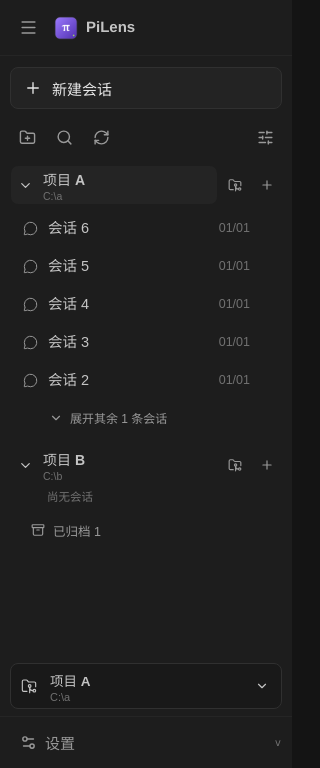
Test case: Sidebar project history › keeps search and archived histories accessible and omits more for short or empty lists
Expected: the text "尚无会话" is shown, [47,492,93,504]
Click the button named "搜索会话" at (64, 137), box [47,120,81,154]
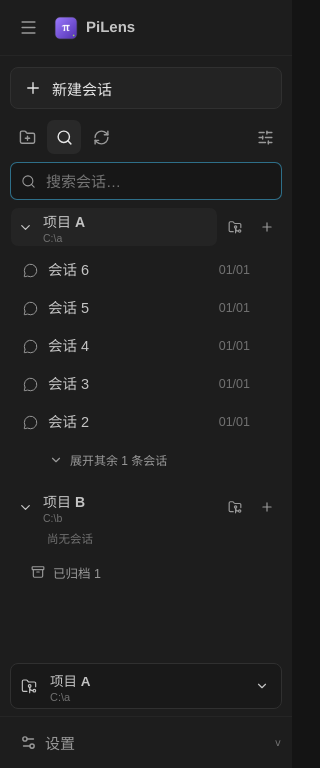
Type "会话 1" into the field with placeholder "搜索会话…" at (158, 181), box [44,172,271,190]
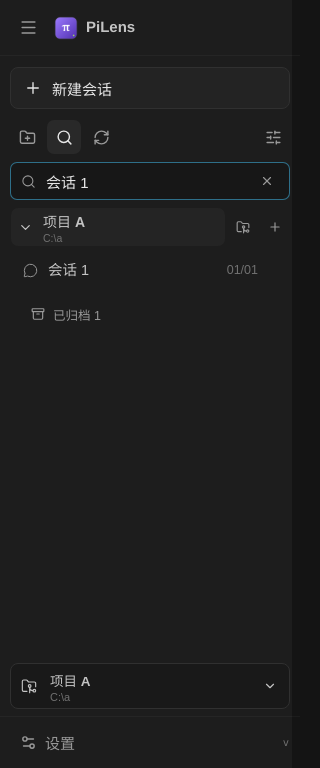
Now the text "会话 1" is shown, box [48,262,89,278]
Now the button "展开其余" is gone
Click the button named "清空搜索" at (267, 181), box [255,169,279,193]
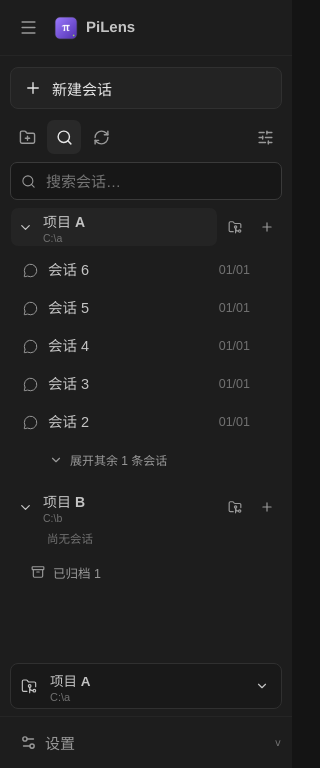
Click the button "已归档 1" at (66, 572), box [21,555,111,589]
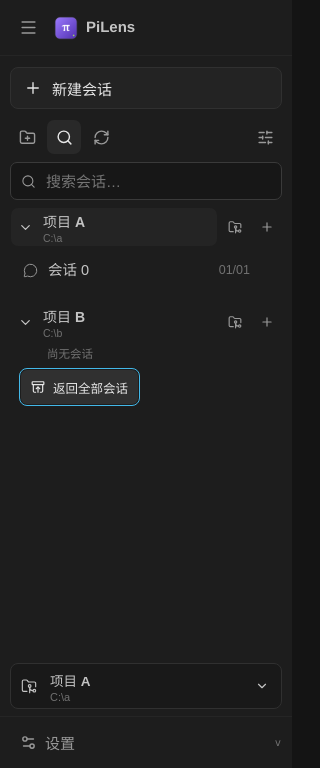
Now the text "会话 0" is shown, box [48,262,89,278]
Now the button "会话 6" is gone
Now the button "展开其余" is gone
